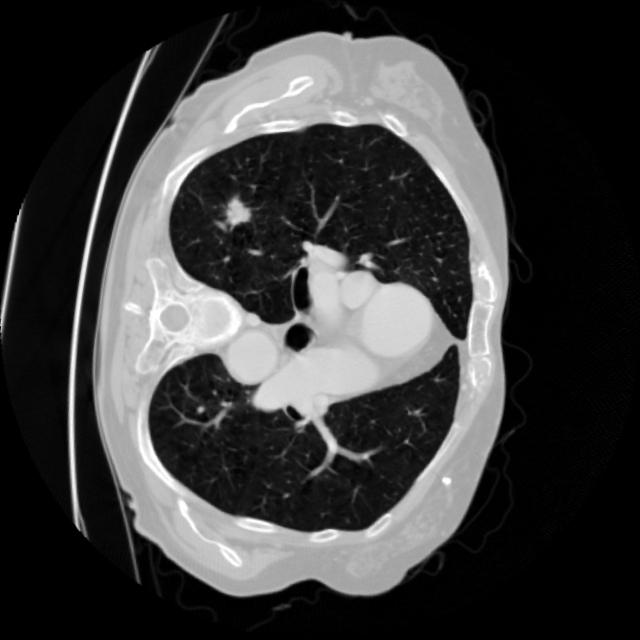nodule: (209, 182, 268, 240)
